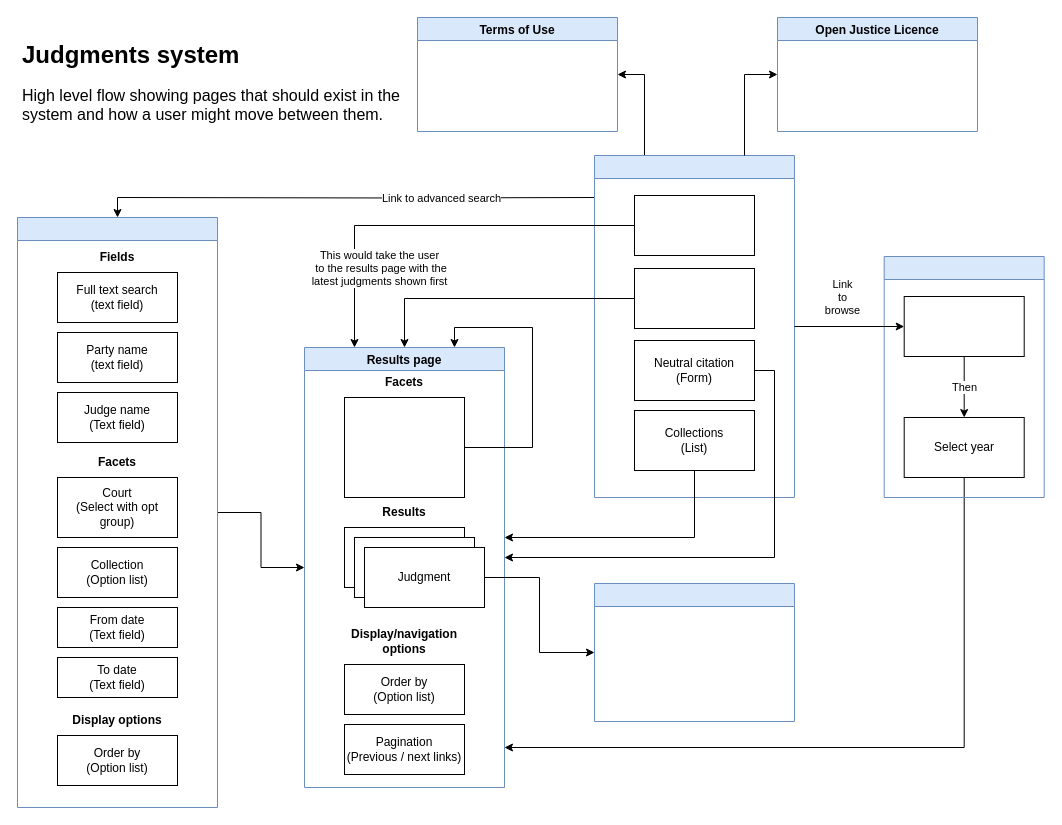
The diagram is 1062 pixels wide and 825 high, and some of its shapes have lost their labels. Each missing label, with the box of its shape:
Advanced search page: (16, 216, 218, 808)
Apply/remove refinement (replicating those available on advanced search): (344, 396, 464, 498)
Basic search (Form): (634, 268, 754, 328)
Browse page(s): (883, 256, 1044, 498)
Home page: (594, 154, 794, 498)
Judgment page: (594, 582, 794, 722)
Latest judgments (Link): (634, 194, 754, 256)
Select court: (903, 296, 1024, 356)
